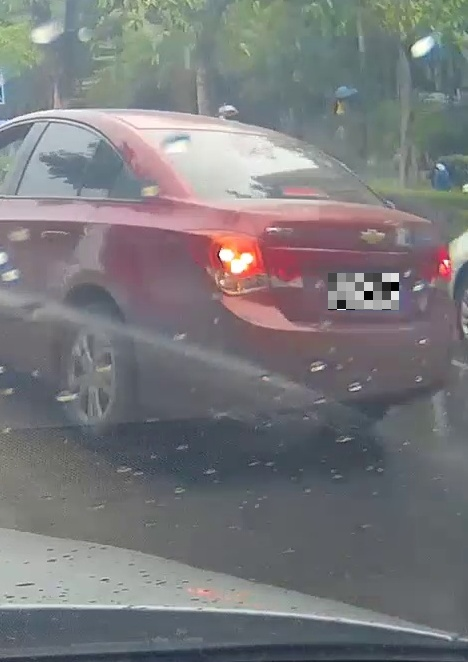L_light: (179, 229, 304, 296)
R_light: (417, 242, 453, 289)
T_light: (278, 185, 330, 199)
day-left: (123, 113, 455, 450)
plate_1: (328, 273, 399, 310)
